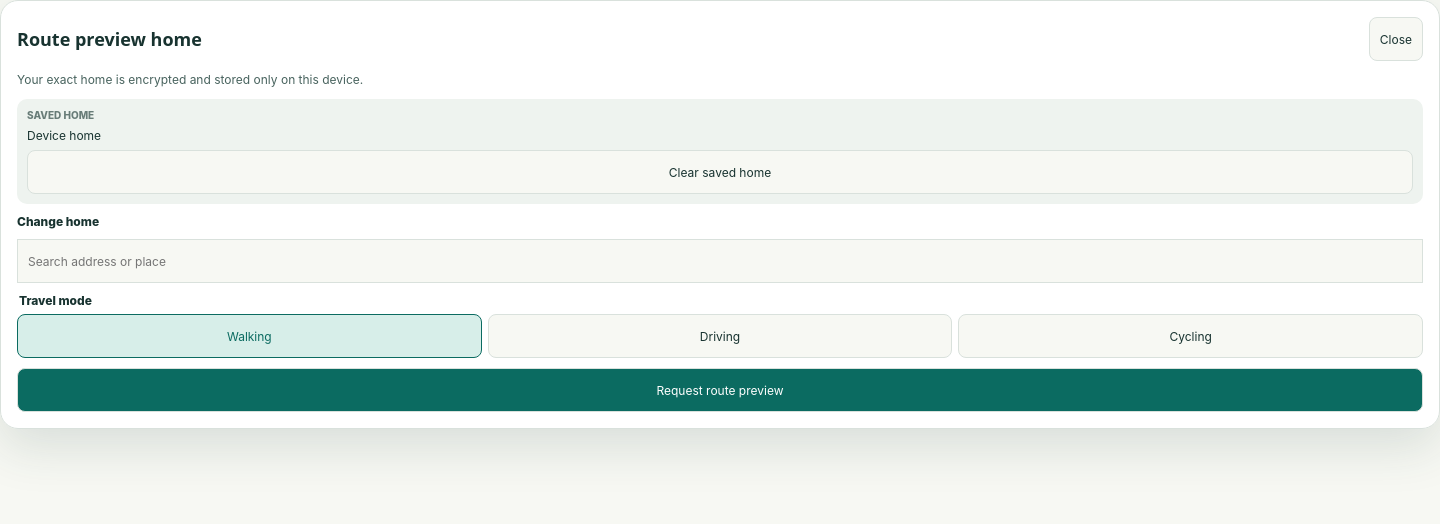
Test case: HomeRoutePanel › shows route request errors
Click the button "Request route preview".
click(720, 390)  # box 17,368 -> 1423,412
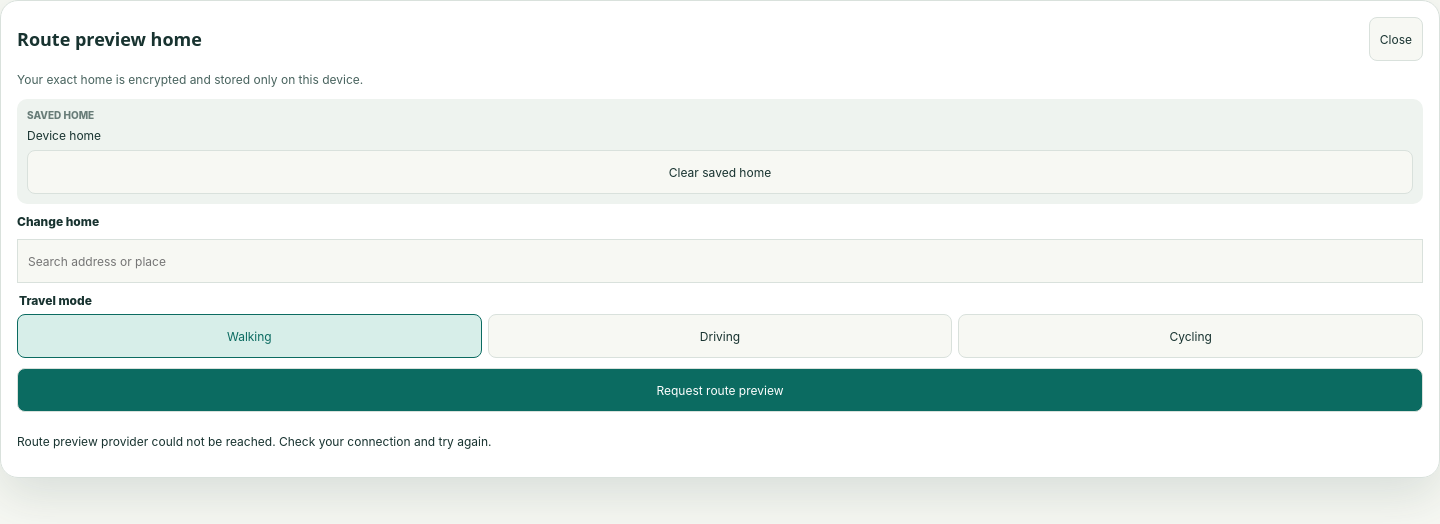
Expected: the text "provider could not be reached" is shown, 17,434 -> 492,449
